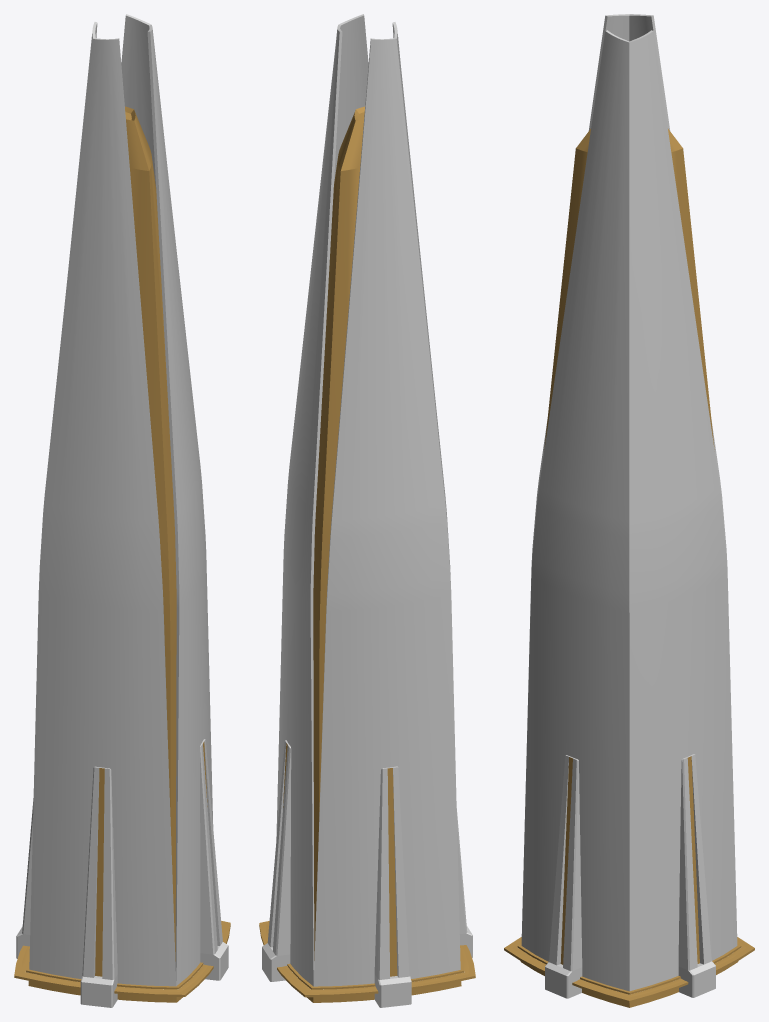
The model's file is Skyscraper5.glb.
The picture shows the model from 3 angles, left to right: view 1: azimuth 30°, elevation 25°; view 2: azimuth 150°, elevation 25°; view 3: azimuth 270°, elevation 25°; orthographic projection.
Visible parts, largest first — view 1: Lotte SHell.001, Lotte, Cube.028, Cube.021, Cube.027; view 2: Lotte SHell.001, Lotte, Cube.027, Cube.026, Cube.028; view 3: Lotte SHell.001, Cube.026, Cube.021, Lotte.
Part boxes in pixels (box(x1,y1,x2,y2)): Lotte SHell.001: box(14, 14, 230, 1002); Lotte: box(125, 106, 176, 961); Cube.028: box(80, 766, 117, 1007); Cube.021: box(200, 739, 228, 980); Cube.027: box(16, 798, 33, 958); Lotte SHell.001: box(259, 14, 475, 1002); Lotte: box(313, 106, 364, 960); Cube.027: box(374, 766, 411, 1007); Cube.026: box(262, 740, 291, 981); Cube.028: box(456, 808, 472, 957); Lotte SHell.001: box(504, 14, 754, 1007); Cube.026: box(678, 754, 715, 997); Cube.021: box(545, 755, 582, 998); Lotte: box(544, 129, 714, 449).
Size of the model in its own units: 23.55 by 97.27 by 23.56.
